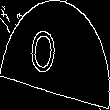O_S: (40, 26, 70, 84)
